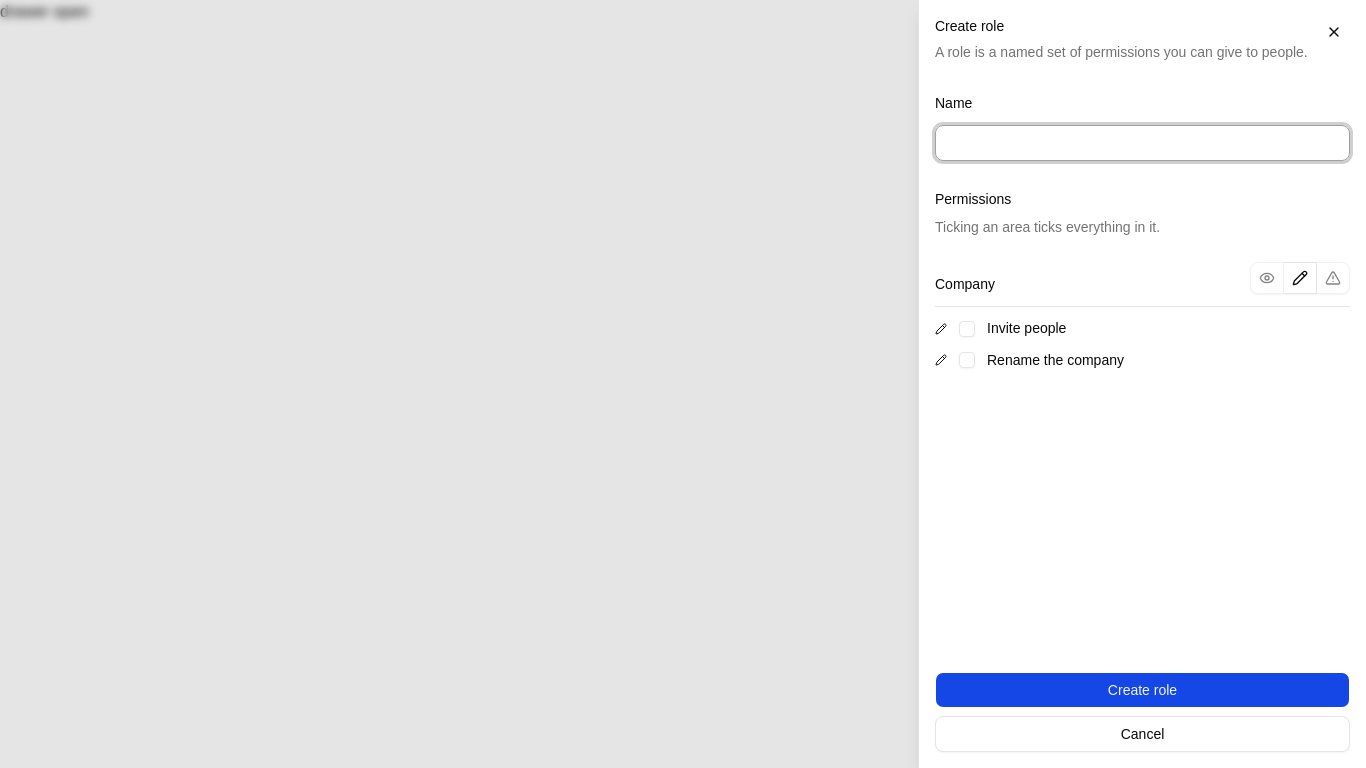
Test: RoleDrawer › asks before discarding what was typed
The image size is (1366, 768).
In the field labelled "Name": (1142, 143) [935,125,1350,161], type "Draft"
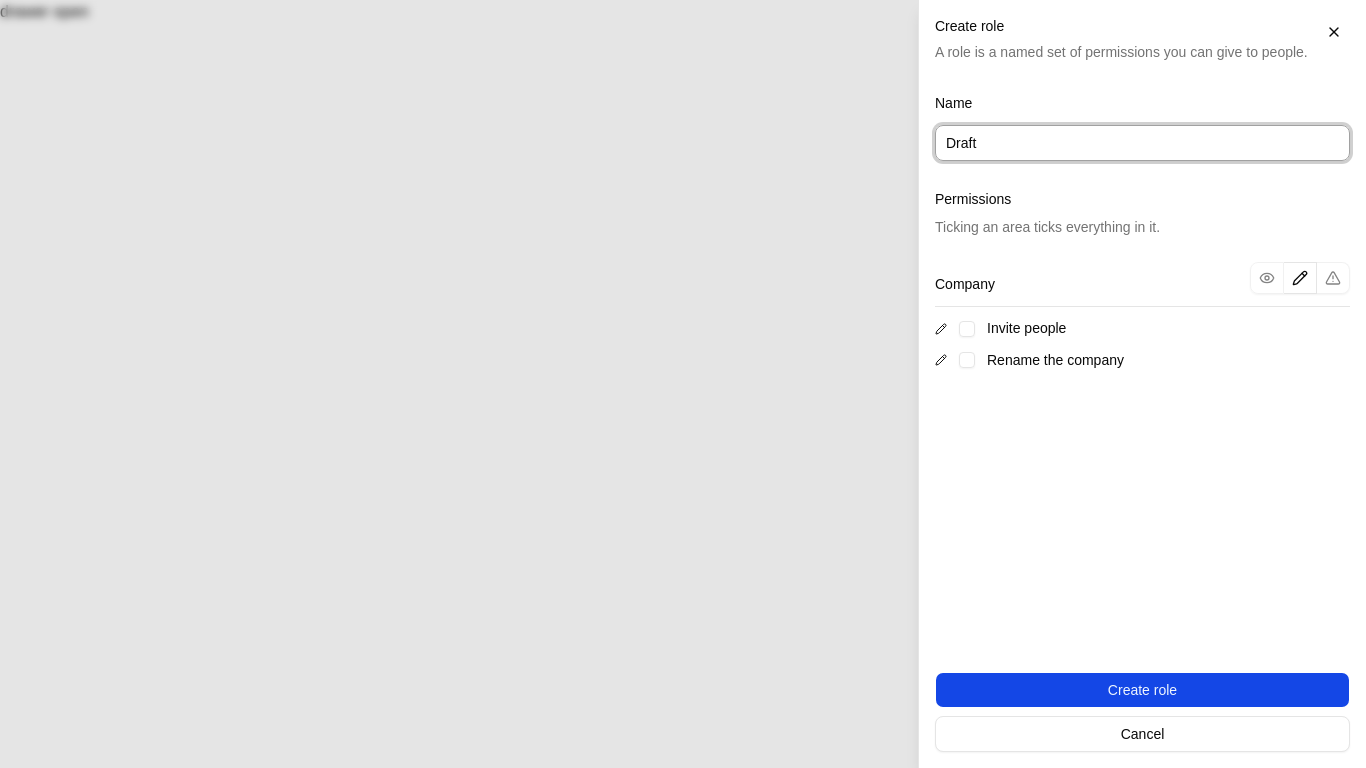
Click the button "Cancel": click(1142, 734) [935,716,1350,752]
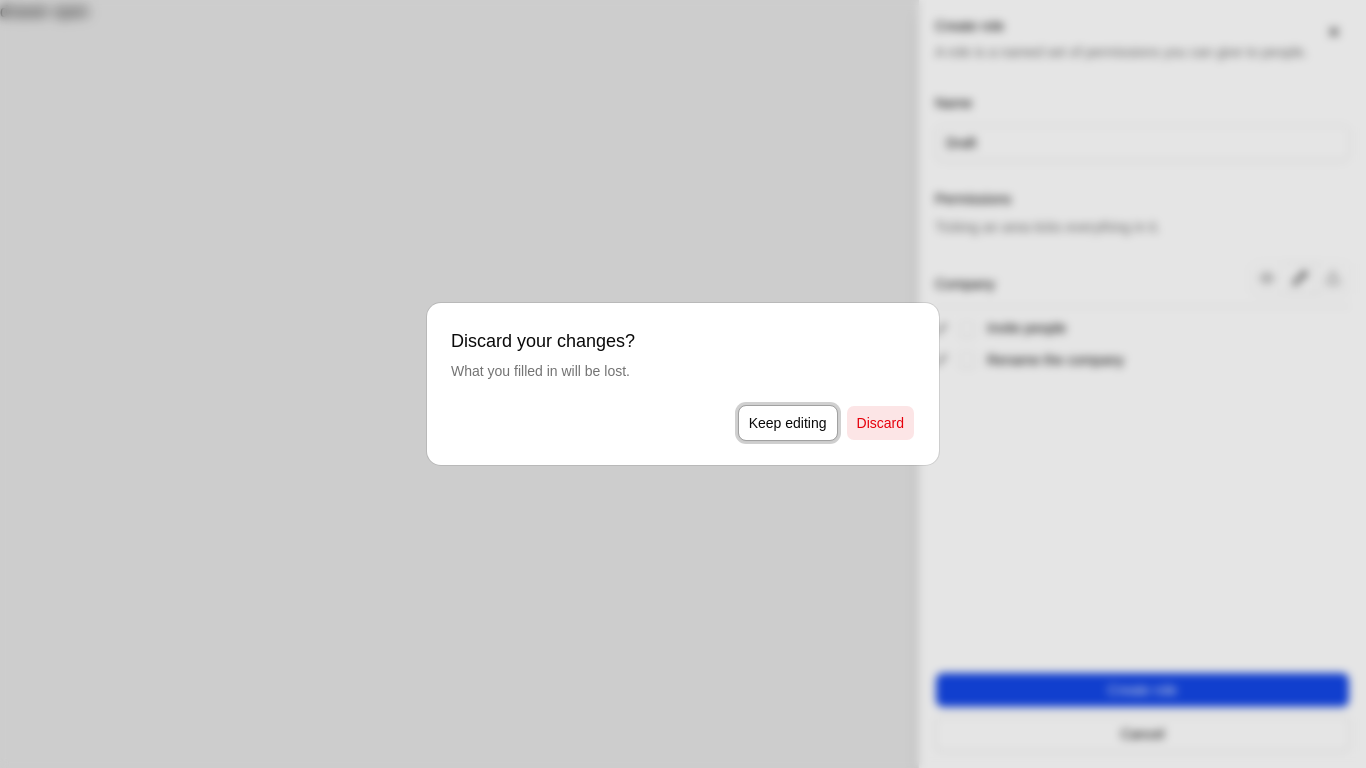
Expected: the text "drawer open" is shown, [0,3,89,20]
Result: the heading "Discard your changes?" is shown at [451,327,635,355]
